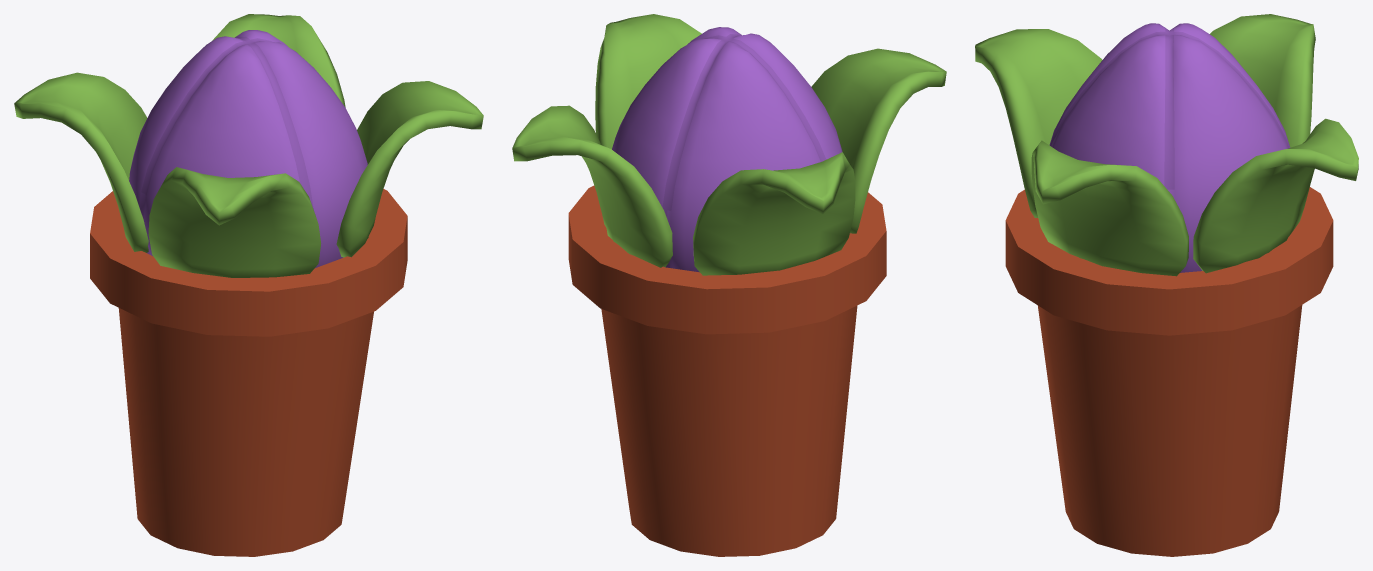
The model's file is plant_vase_small.fbx.
3 views of the same model, side by side, from view 1: azimuth 30°, elevation 25°; view 2: azimuth 150°, elevation 25°; view 3: azimuth 270°, elevation 25° (orthographic). The views are drawn at different scales.
Visible parts, largest first — view 1: vase1.001; view 2: vase1.001; view 3: vase1.001.
Part boxes in pixels (x1=…): vase1.001: x1=14, y1=14, x2=483, y2=556; vase1.001: x1=512, y1=14, x2=946, y2=556; vase1.001: x1=975, y1=14, x2=1358, y2=556.
Size of the model in its own units: 35.84 by 47.81 by 34.35.
